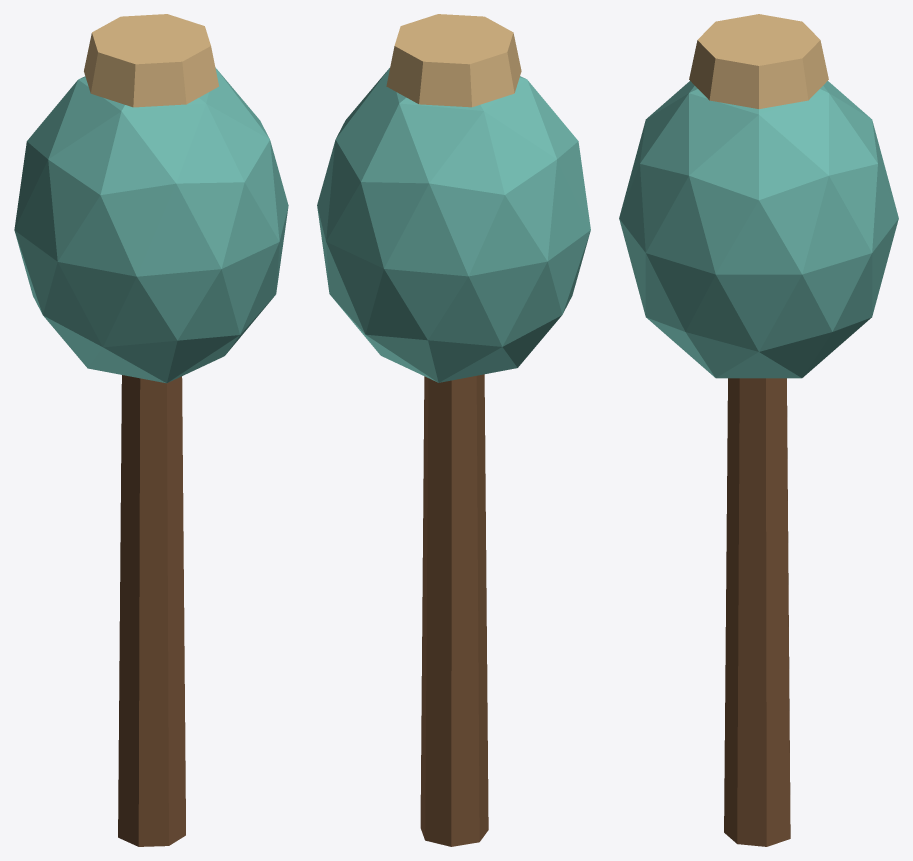
The model's file is CC_FireflyLamp.fbx.
3 views of the same model, side by side, from view 1: azimuth 30°, elevation 25°; view 2: azimuth 150°, elevation 25°; view 3: azimuth 270°, elevation 25° (orthographic).
Visible parts, largest first — view 1: Glass jar, Lamp post, Jar cork; view 2: Glass jar, Lamp post, Jar cork; view 3: Glass jar, Lamp post, Jar cork.
Boxes of the visible parts, box(x1,y1,x2,y2) form: Glass jar: box(14, 67, 288, 383); Lamp post: box(118, 375, 185, 846); Jar cork: box(84, 14, 218, 107); Glass jar: box(317, 68, 590, 382); Lamp post: box(420, 374, 488, 846); Jar cork: box(386, 14, 521, 107); Glass jar: box(619, 81, 898, 378); Lamp post: box(724, 378, 790, 846); Jar cork: box(689, 14, 828, 108).
Size of the model in its own units: 0.6087 by 2 by 0.64.
